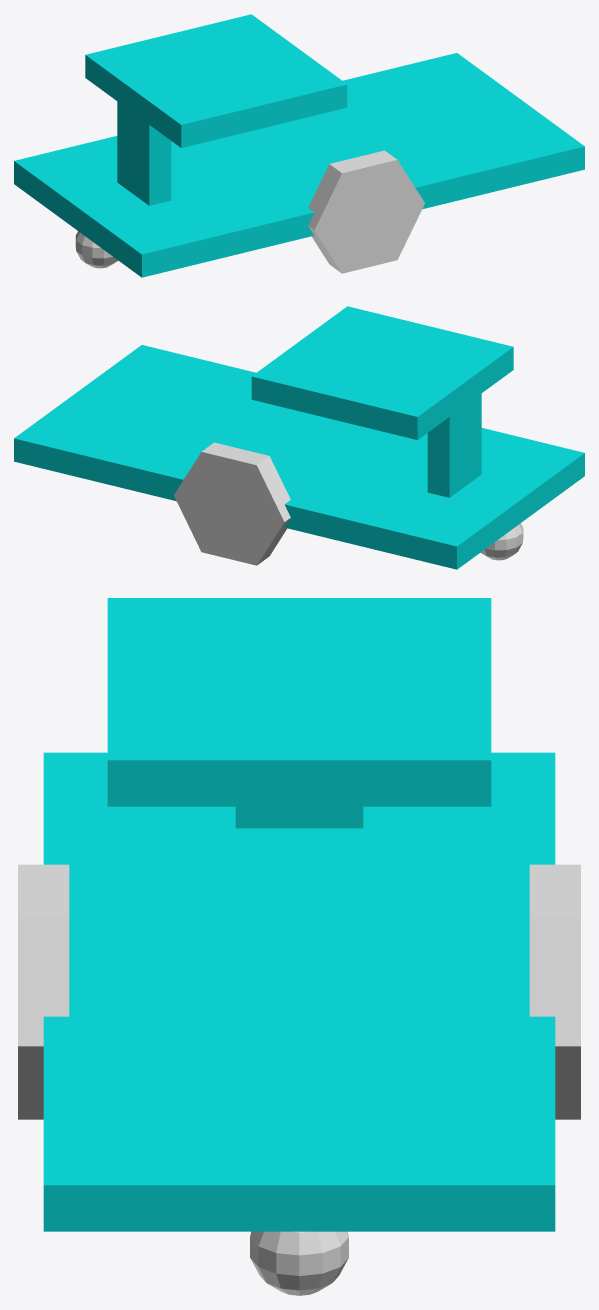
The picture shows the model from 3 angles, top to bottom: view 1: azimuth 30°, elevation 25°; view 2: azimuth 150°, elevation 25°; view 3: azimuth 270°, elevation 25°; orthographic projection. The views are drawn at different scales.
Parts seen in each view (by area): view 1: base_link, structure_horizontale, roue_droite, structure_verticale, roue_libre_arriere; view 2: base_link, structure_horizontale, roue_gauche, structure_verticale, roue_libre_arriere; view 3: base_link, structure_horizontale, roue_droite, roue_gauche, structure_verticale, roue_libre_avant.
Boxes of the visible parts, left/top/right/bottom form: base_link: left=14, top=53, right=584, bottom=277; structure_horizontale: left=85, top=14, right=347, bottom=147; roue_droite: left=308, top=150, right=424, bottom=273; structure_verticale: left=117, top=73, right=171, bottom=205; roue_libre_arriere: left=75, top=231, right=118, bottom=268; base_link: left=14, top=345, right=584, bottom=569; structure_horizontale: left=251, top=306, right=513, bottom=439; roue_gauche: left=174, top=442, right=290, bottom=565; structure_verticale: left=427, top=365, right=481, bottom=497; roue_libre_arriere: left=480, top=523, right=523, bottom=560; base_link: left=43, top=752, right=555, bottom=1231; structure_horizontale: left=107, top=598, right=491, bottom=806; roue_droite: left=18, top=864, right=69, bottom=1119; roue_gauche: left=529, top=864, right=580, bottom=1119; structure_verticale: left=235, top=598, right=363, bottom=828; roue_libre_avant: left=250, top=1231, right=348, bottom=1295.
Bounding box in the file's own units: 0.4 × 0.22 × 0.145.
